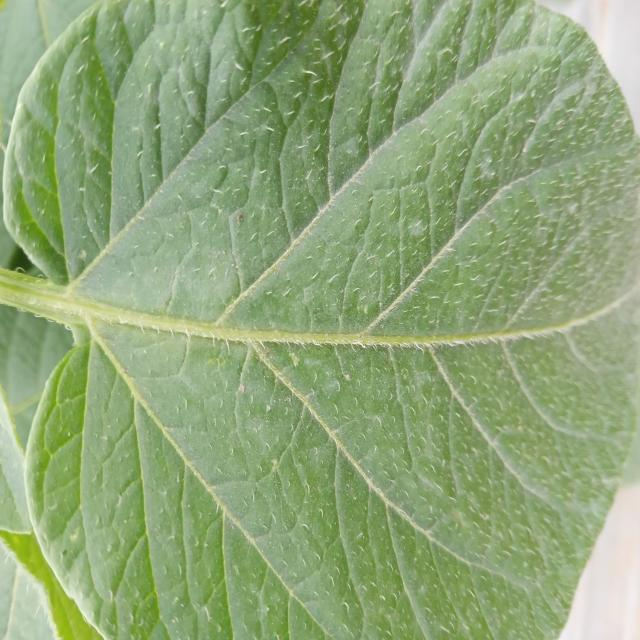healthy: (2, 2, 636, 637)
